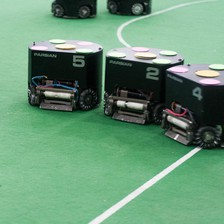robot: (24, 35, 102, 112), (161, 59, 224, 150), (101, 42, 164, 126), (49, 1, 98, 19), (105, 1, 154, 17)
